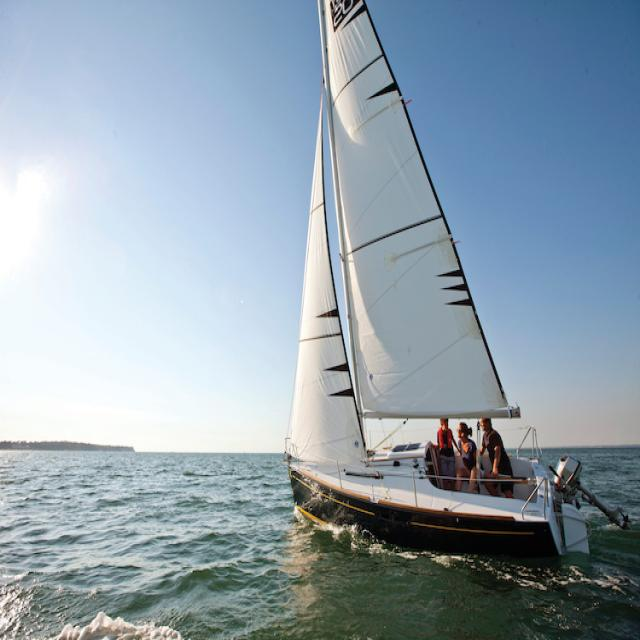boat: (280, 0, 609, 571)
